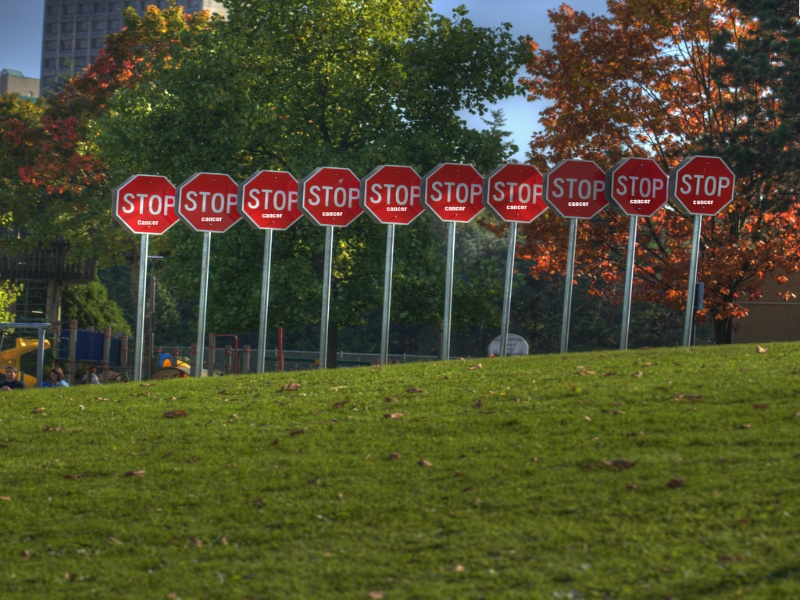stop: (112, 174, 176, 249), (431, 161, 487, 237), (240, 171, 300, 235), (183, 162, 239, 226), (369, 171, 426, 232)
